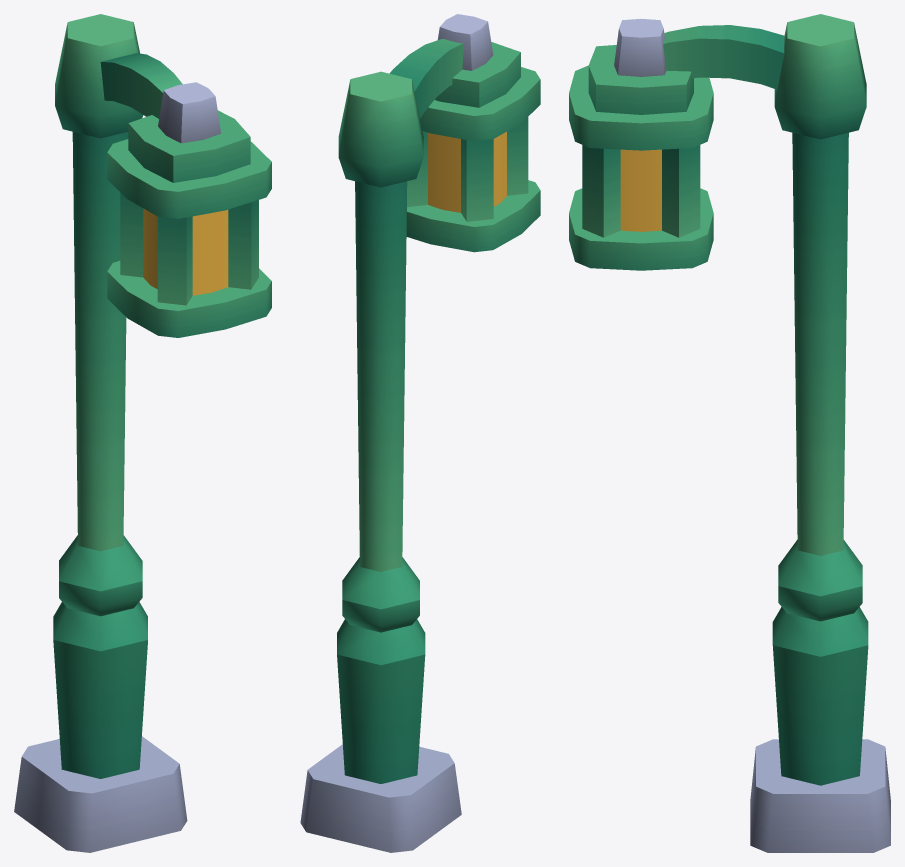
File: kenney-lightpost.glb
3 views of the same model, side by side, from view 1: azimuth 30°, elevation 25°; view 2: azimuth 150°, elevation 25°; view 3: azimuth 270°, elevation 25° (orthographic). The views are drawn at different scales.
Parts seen in each view (by area): view 1: lightpost-single; view 2: lightpost-single; view 3: lightpost-single.
Part boxes in pixels (bbox=[...]): lightpost-single: bbox=[14, 14, 271, 852]; lightpost-single: bbox=[300, 14, 540, 852]; lightpost-single: bbox=[569, 14, 890, 852].
Size of the model in its own units: 0.2088 by 1.27 by 0.4649.
Materials: 1 (1 with a texture image).
